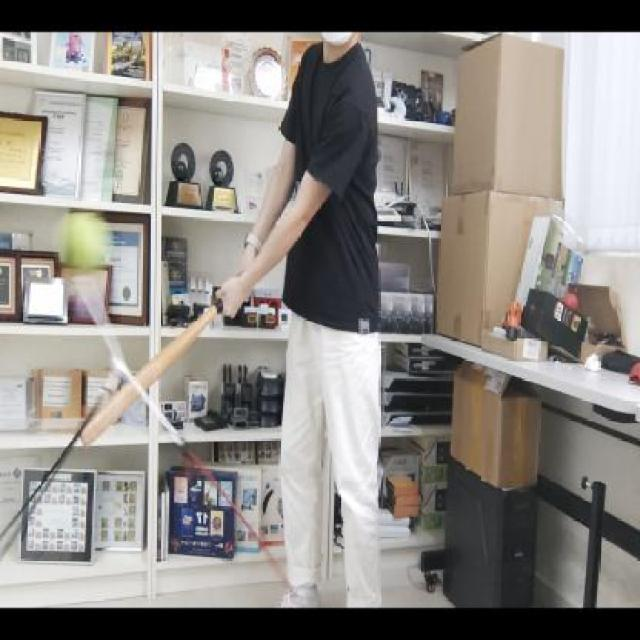baseball: (54, 213, 111, 267)
